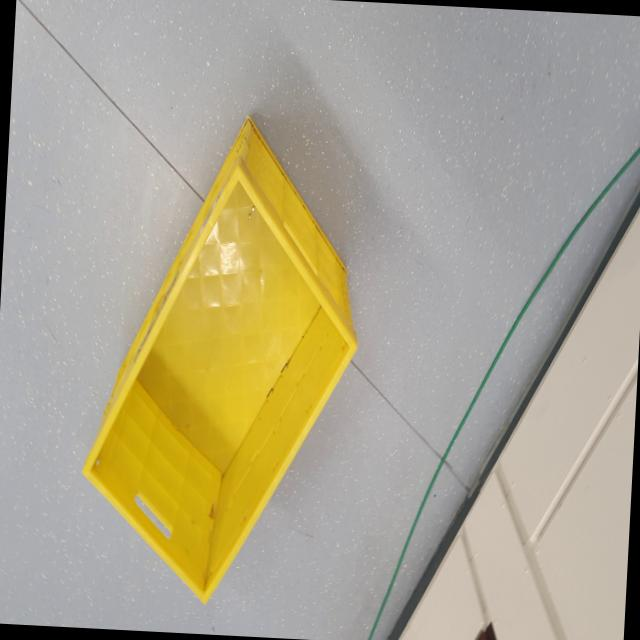box: (66, 80, 372, 622)
